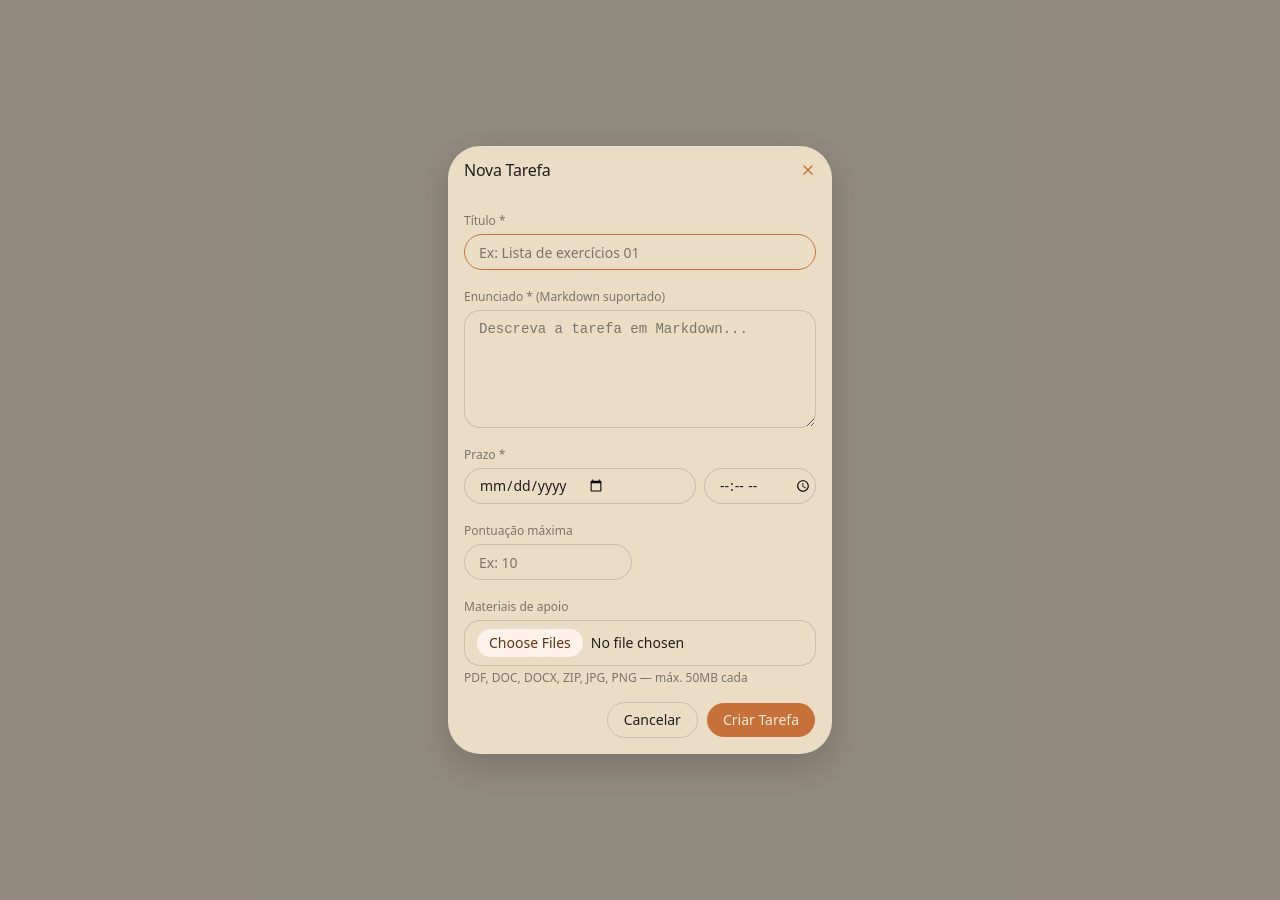
Scenario: TaskFormDialog › shows validation error for past deadline
The width and height of the screenshot is (1280, 900).
Type "Tarefa X" into the field with placeholder "Ex: Lista de exercícios 01" at (640, 252), box [464,234,816,270]
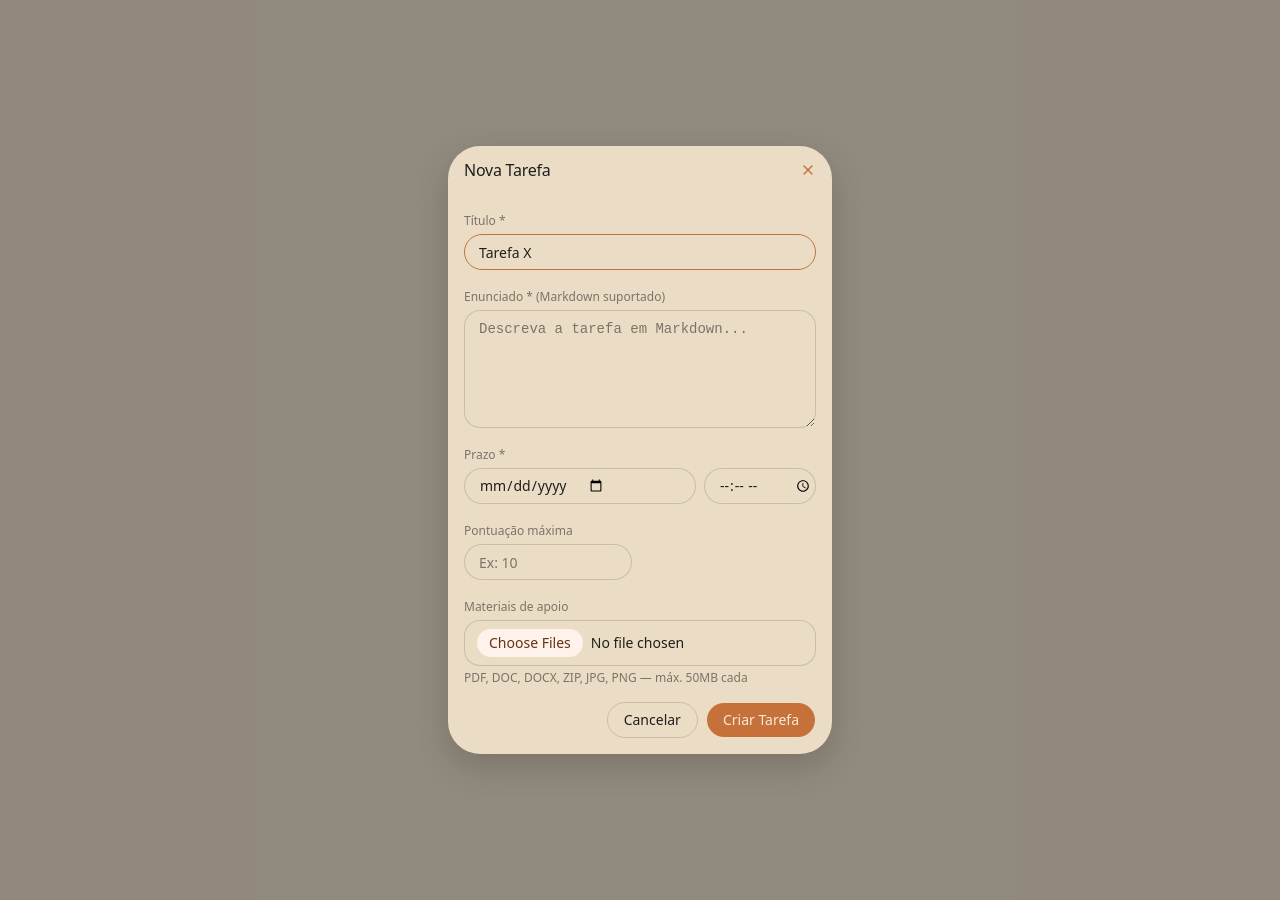
Type "Enunciado" into the text box with placeholder "Descreva a tarefa em Markdown..." at (640, 369), box [464,310,816,428]
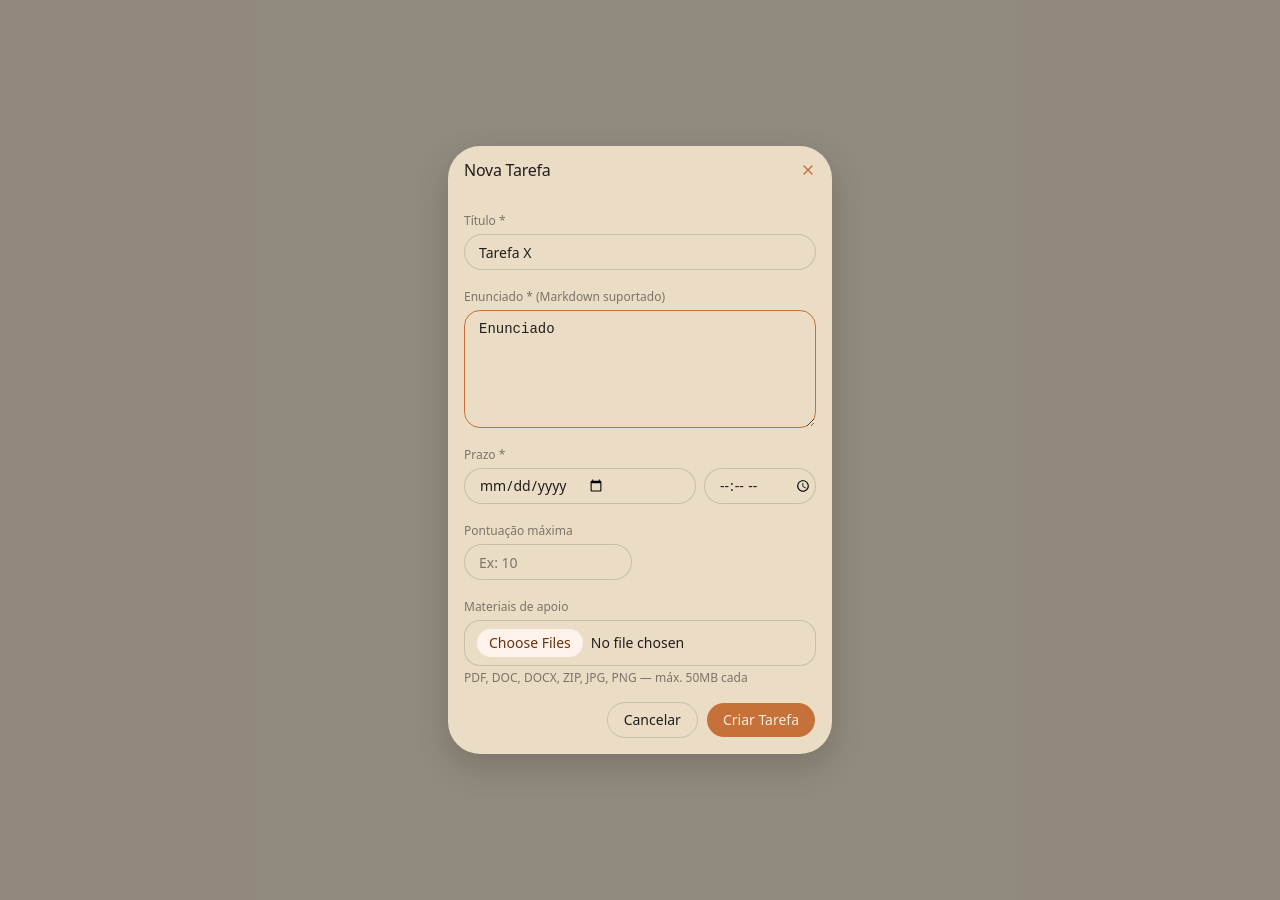
Type "2020-01-01" into the date field named "data do prazo" at (580, 486), box [464,468,696,504]
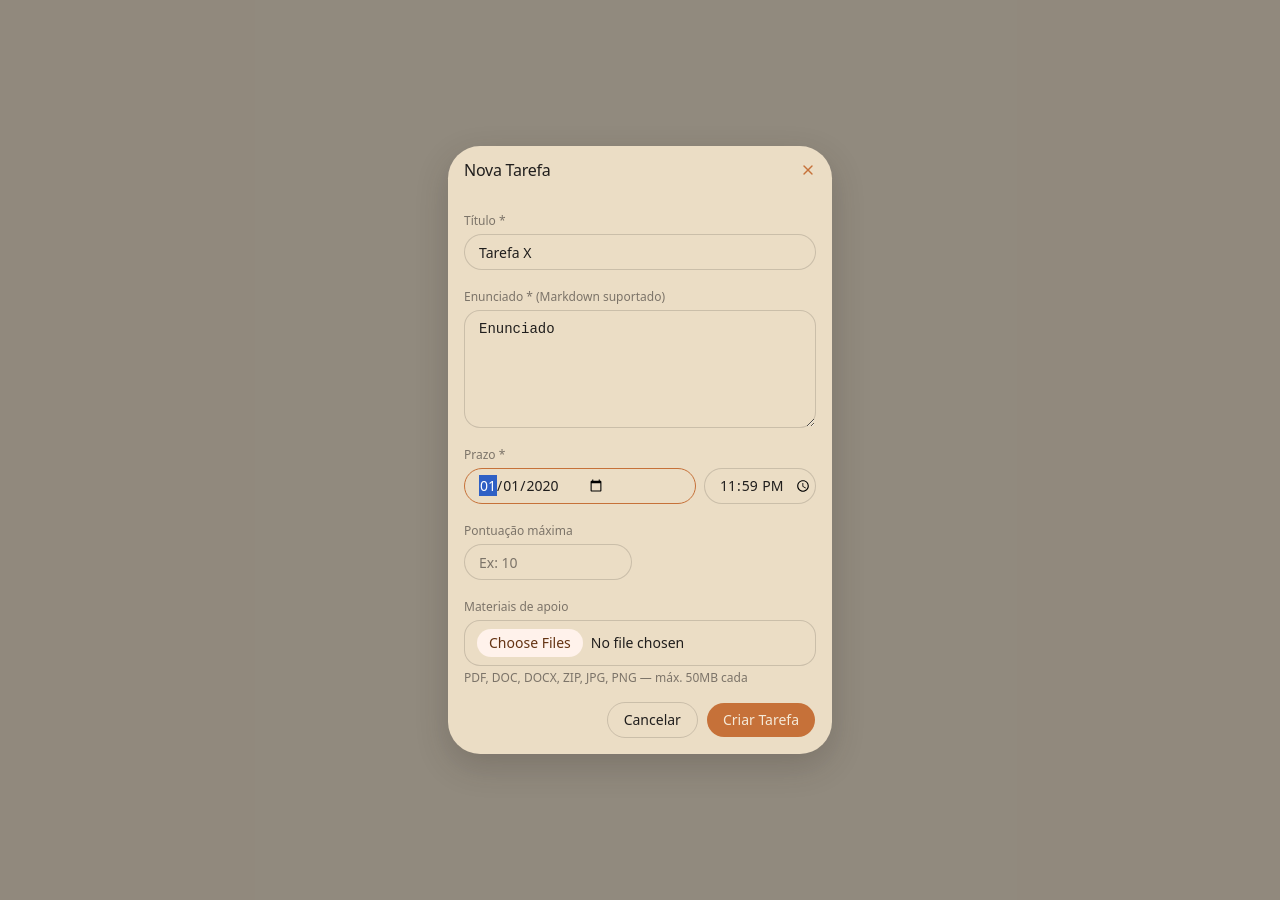
Replace the text in the time field named "hora do prazo" with "10:00" at (760, 486), box [704,468,816,504]
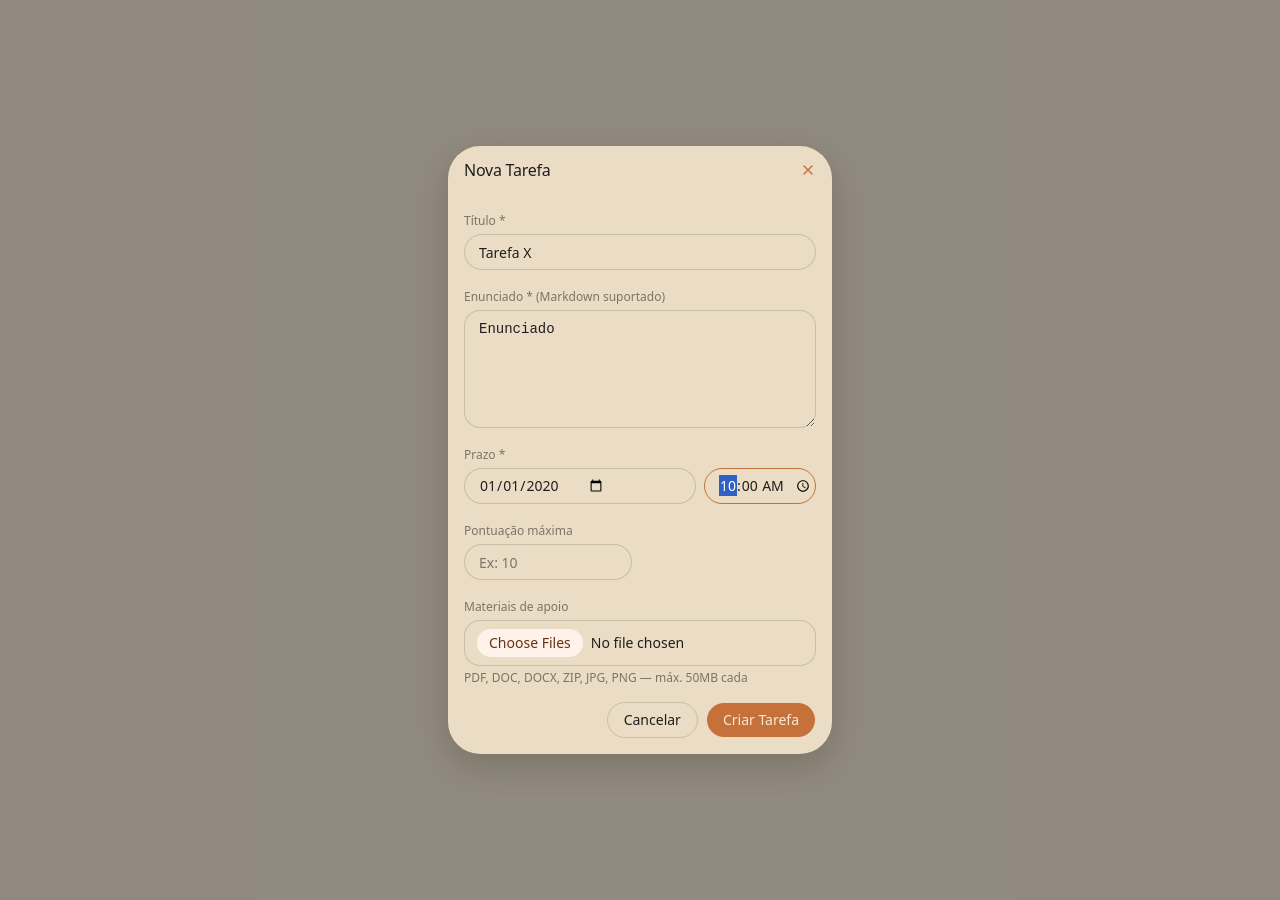
Click the button "Criar Tarefa" at (761, 720), box [706,702,816,738]
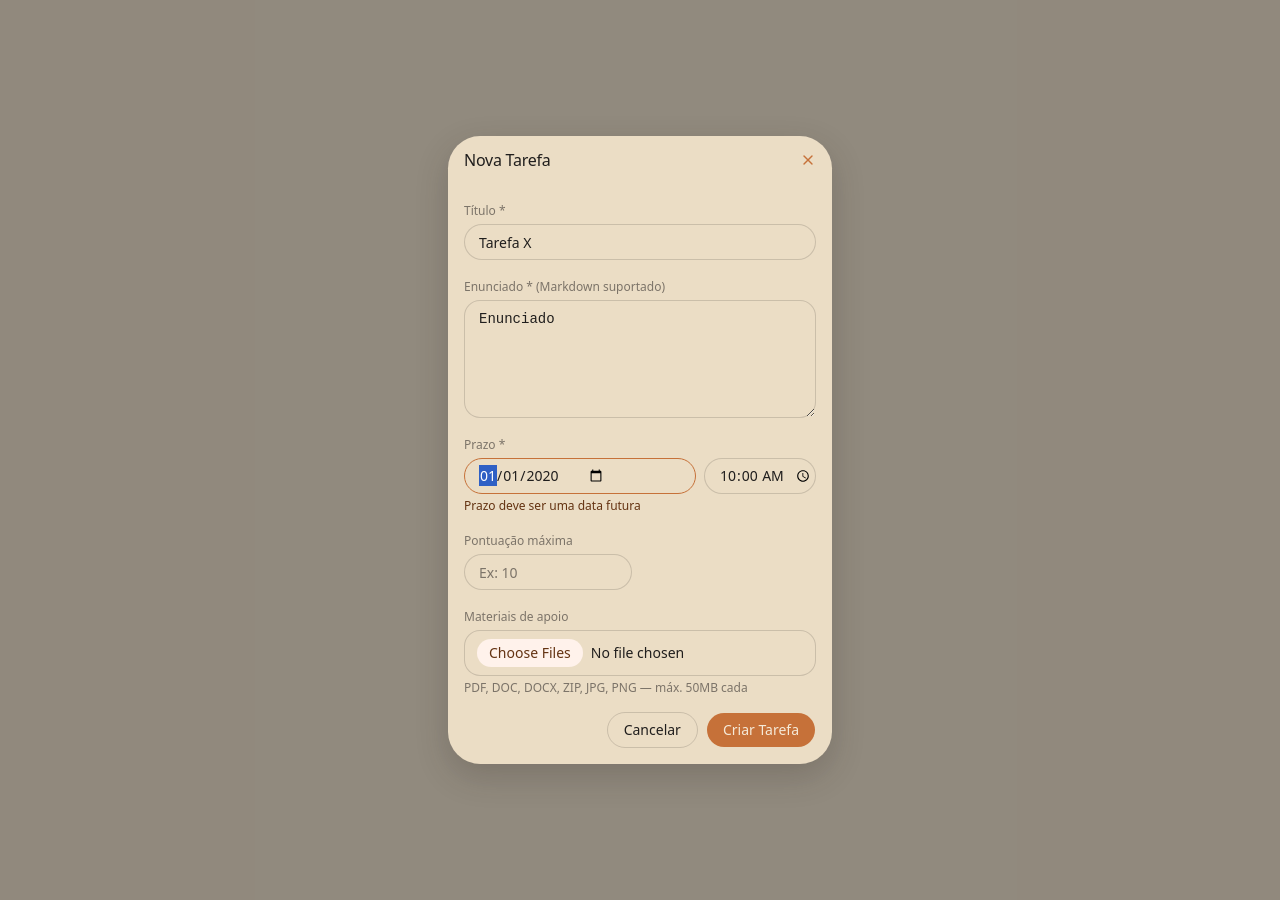
Result: the text "Prazo deve ser uma data futura" is shown at [464,497,641,514]
